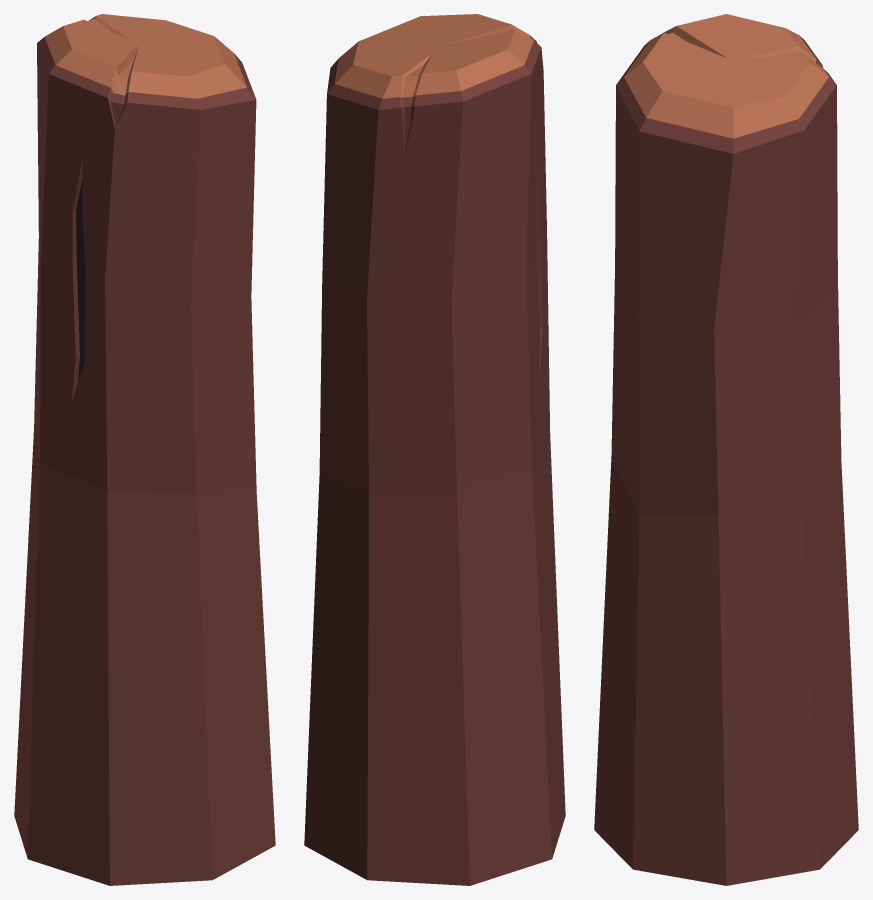
Rendered from Wooden Pole Blunt 03.fbx.
3 views of the same model, side by side, from view 1: azimuth 30°, elevation 25°; view 2: azimuth 150°, elevation 25°; view 3: azimuth 270°, elevation 25° (orthographic). The views are drawn at different scales.
Parts seen in each view (by area): view 1: Wooden Pole Blunt 03; view 2: Wooden Pole Blunt 03; view 3: Wooden Pole Blunt 03.
Boxes of the visible parts, x1,y1,x2,y2 form: Wooden Pole Blunt 03: (14,14,275,885); Wooden Pole Blunt 03: (304,14,565,885); Wooden Pole Blunt 03: (594,14,858,885).
Size of the model in its own units: 34.2 by 111 by 34.2.
